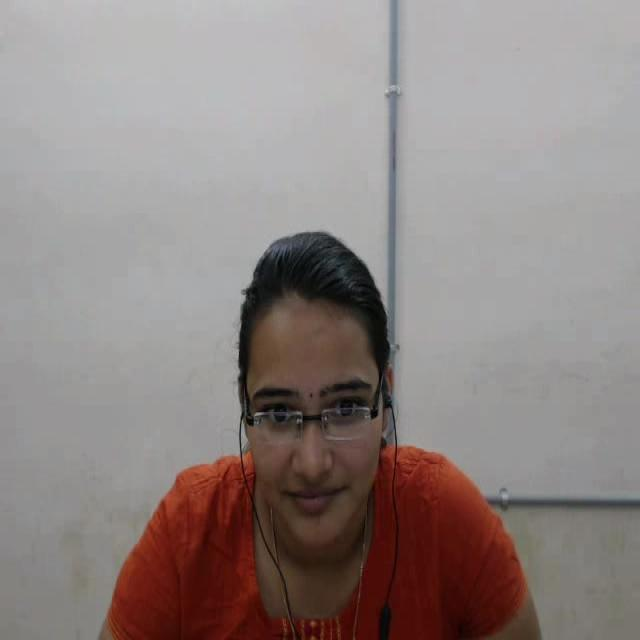Engaged: (196, 220, 440, 600)
